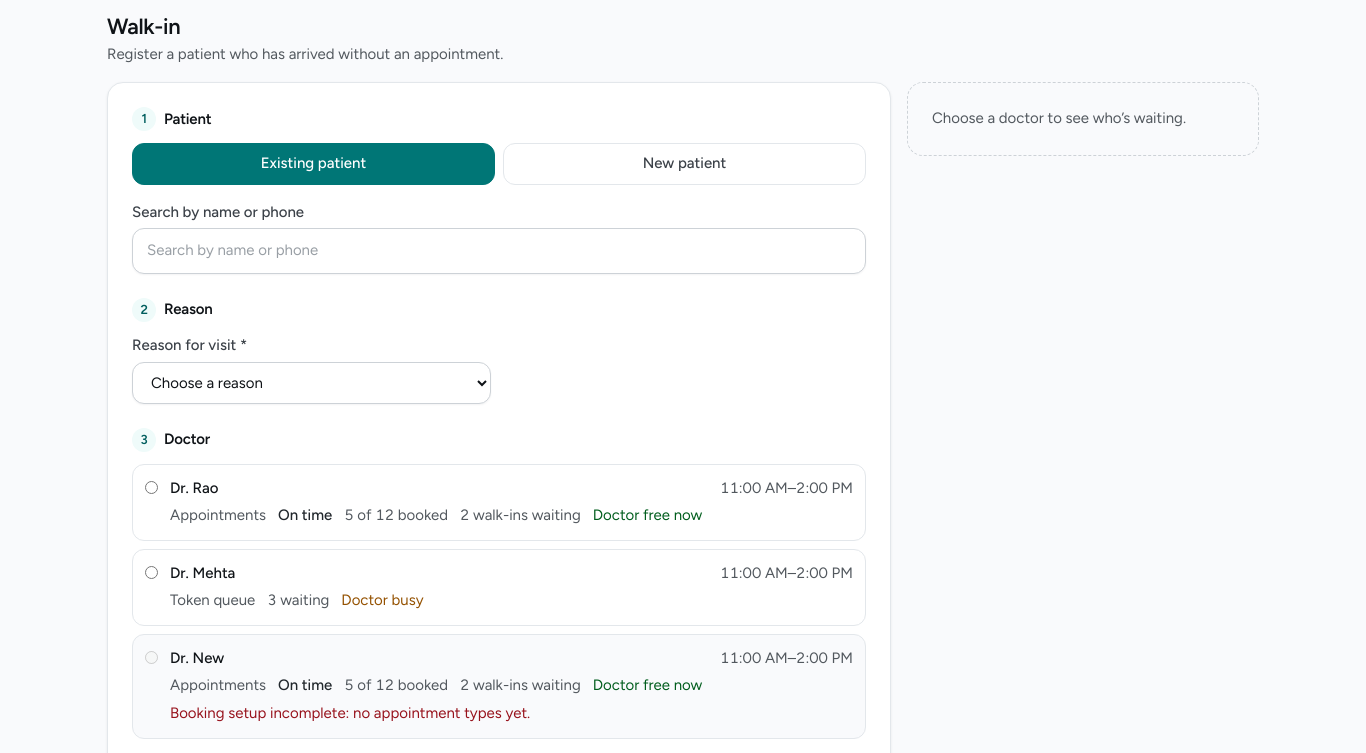
Scenario: FrontDeskWalkInPage (063-front-desk-walk-in US1) › shows a Queue session’s waiting tokens and doctor hint, and its waiting line once chosen
Expected: the text "3 waiting" is shown, top-left (267, 589), bottom-right (329, 613)
Expected: the text "Doctor busy" is shown, top-left (341, 589), bottom-right (424, 613)
Click the radio button labelled "Dr. Mehta 11:00 AM–2:00 PM Token queue 3 waiting Doctor busy" at (152, 572), box top-left (145, 566), bottom-right (158, 579)
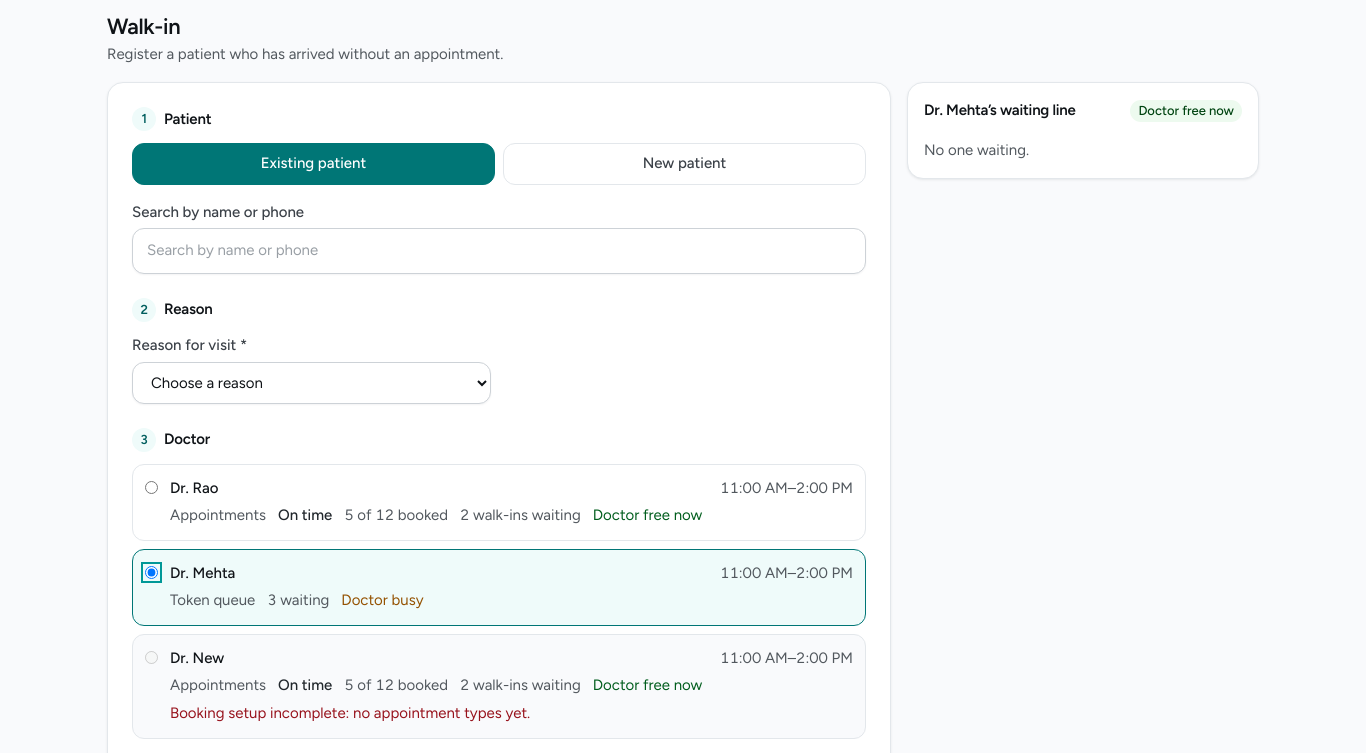
Now the element "Dr. Mehta’s waiting line Doctor free now No one waiting." is shown, box top-left (907, 82), bottom-right (1259, 180)
